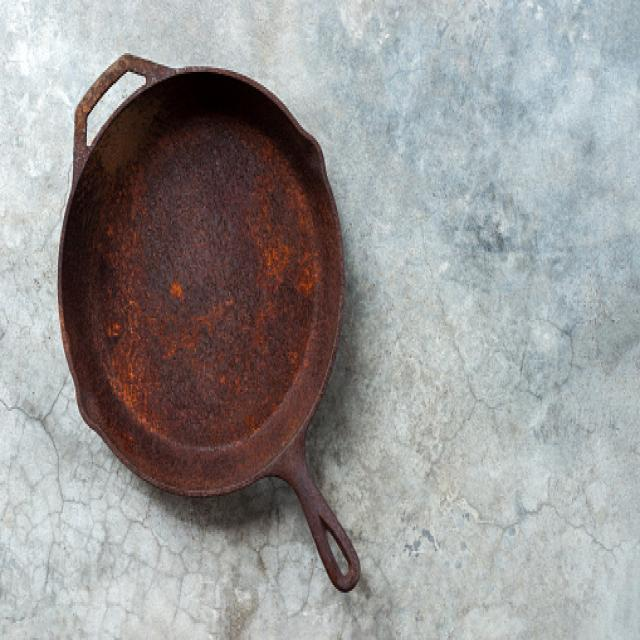corrosion: (55, 49, 348, 494), (273, 428, 365, 589)
